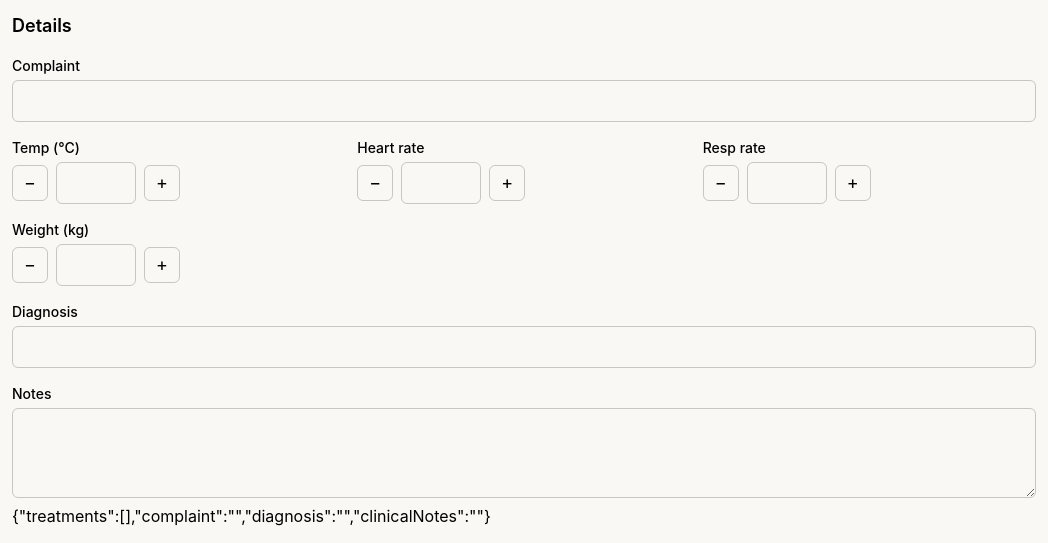
DetailsStep › updates heart rate via the stepper
Click the button named "increase heart rate". click: x=507, y=183
box: [489,165,525,201]
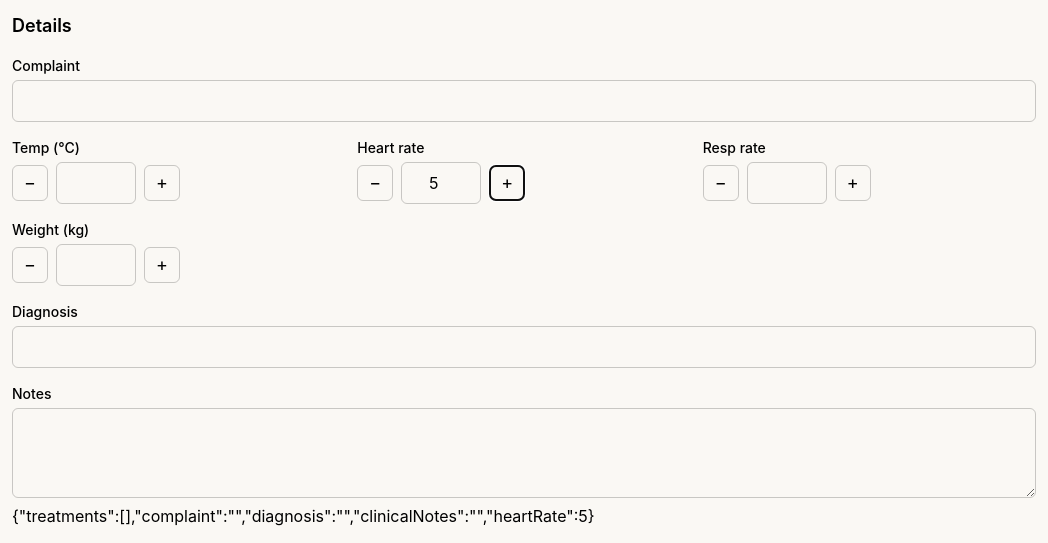
Click the button named "increase heart rate". click: x=507, y=183
box: [489,165,525,201]
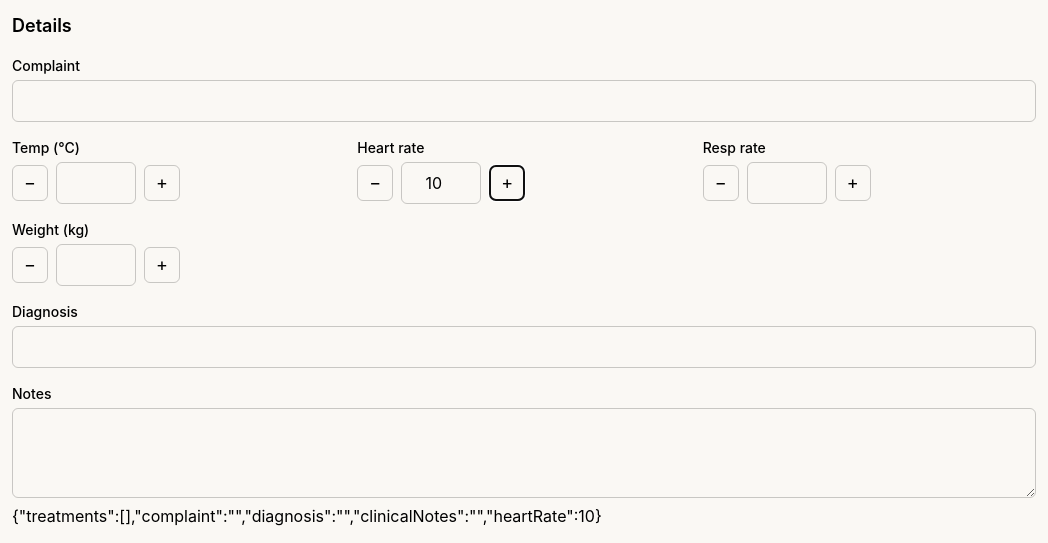
Expected: the text with test id "probe" shows "\"heartRate\":10", [12,506,602,526]
